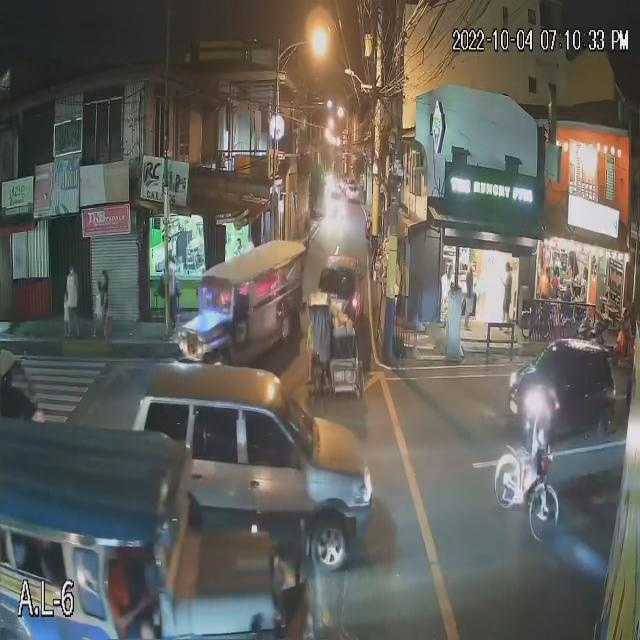motorcycle: (573, 301, 619, 365)
